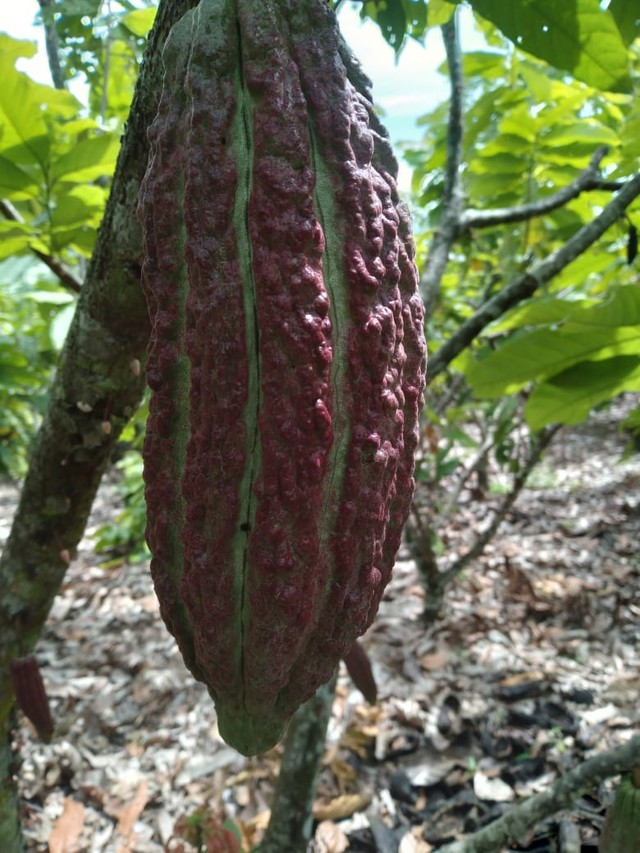Health: (103, 1, 452, 783)
